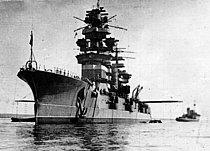Ship: (17, 5, 158, 125), (177, 107, 205, 125)
